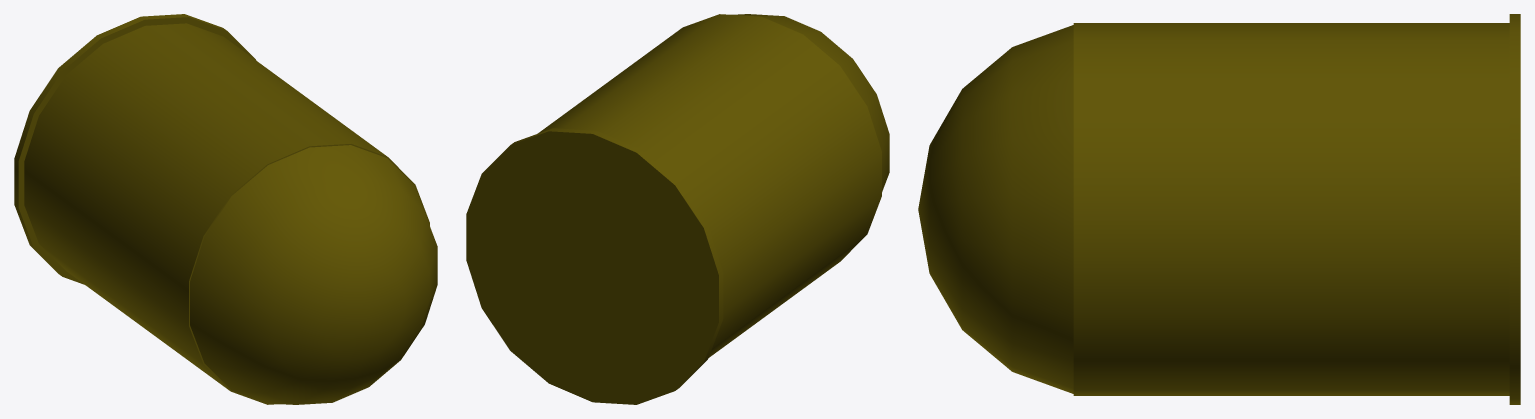
Rendered from Prop_GrenadeLauncherBullet.FBX.
3 views of the same model, side by side, from view 1: azimuth 30°, elevation 25°; view 2: azimuth 150°, elevation 25°; view 3: azimuth 270°, elevation 25° (orthographic). The views are drawn at different scales.
Visible parts, largest first — view 1: GrenadeLauncherBullet; view 2: GrenadeLauncherBullet; view 3: GrenadeLauncherBullet.
Boxes of the visible parts, <box> form: GrenadeLauncherBullet: <box>14,14,437,404</box>; GrenadeLauncherBullet: <box>466,14,889,404</box>; GrenadeLauncherBullet: <box>918,14,1520,404</box>.
Bounding box in the file's own units: 11.09 × 11.26 × 17.28.
